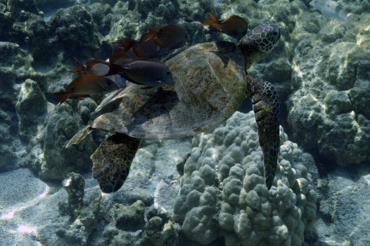Acanthuridae -Surgeonfishes-: (46, 72, 120, 102), (69, 54, 128, 90), (106, 59, 175, 87), (196, 11, 250, 39), (143, 20, 190, 51)
